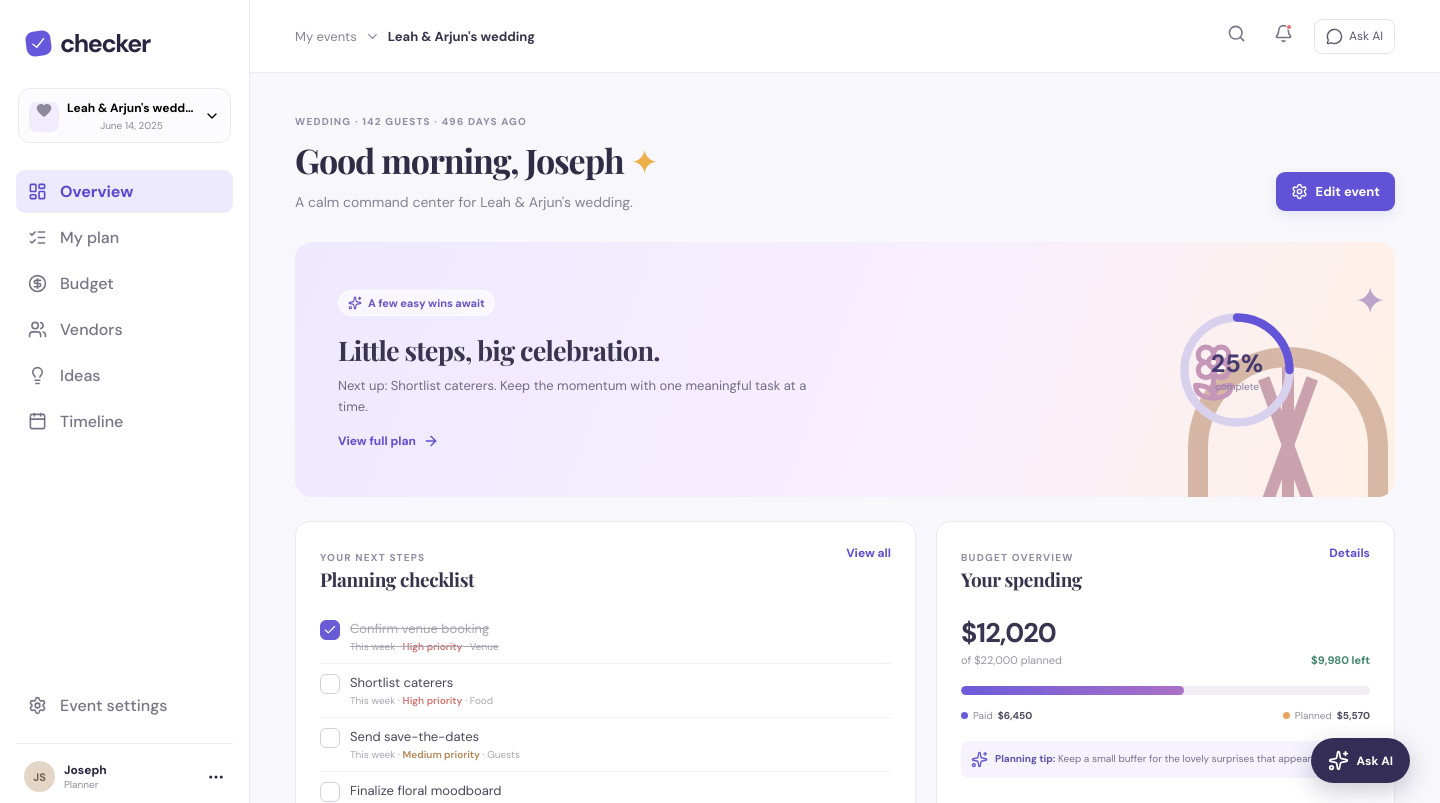
Test: Checker event planner – App integration › shows a toast when bell is clicked
Note: Bell button has aria-label containing "tasks need attention"
Click the button named "tasks need attention": (1284, 36) [1267, 17, 1300, 55]
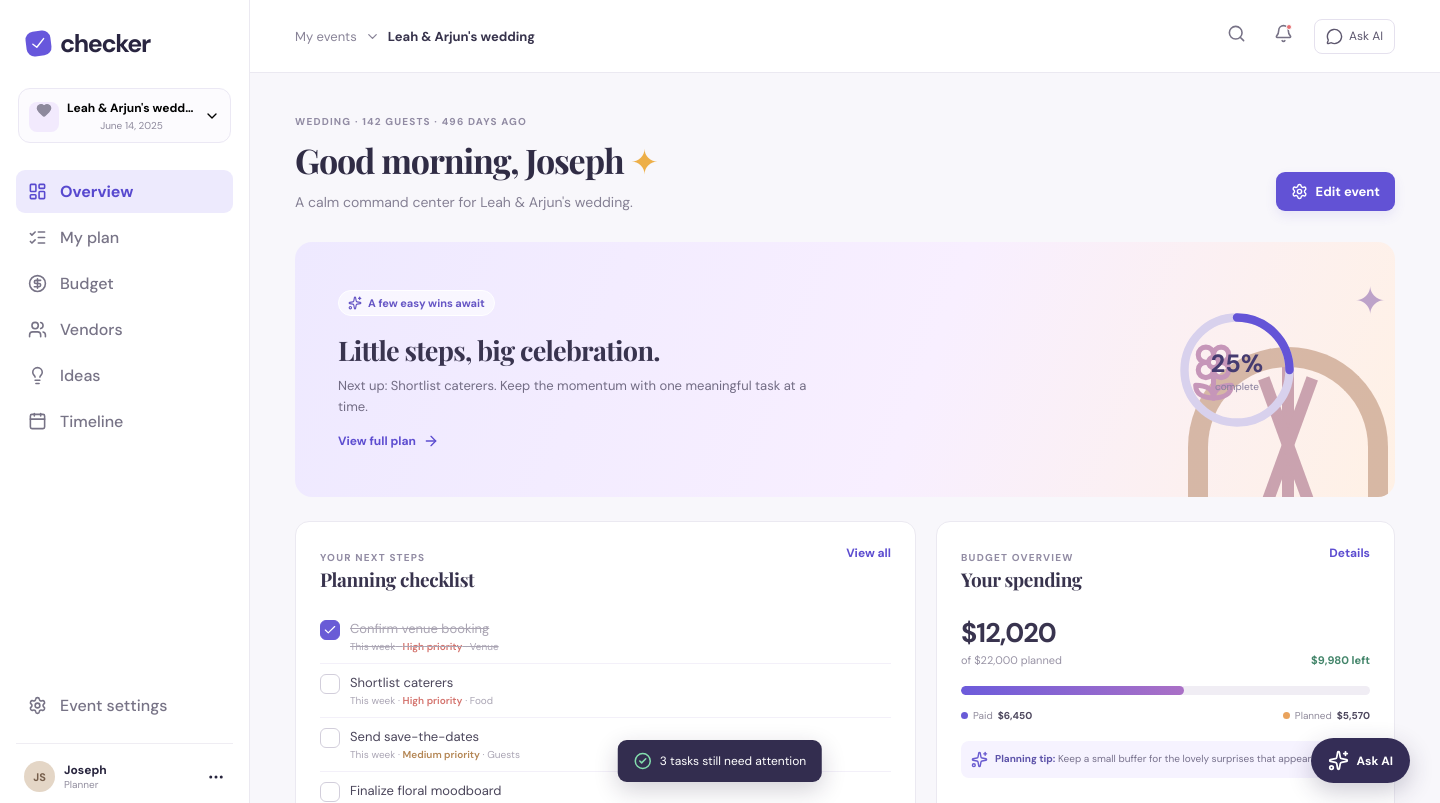
Result: the message "3 tasks still need attention" is shown at [618, 740, 822, 782]
